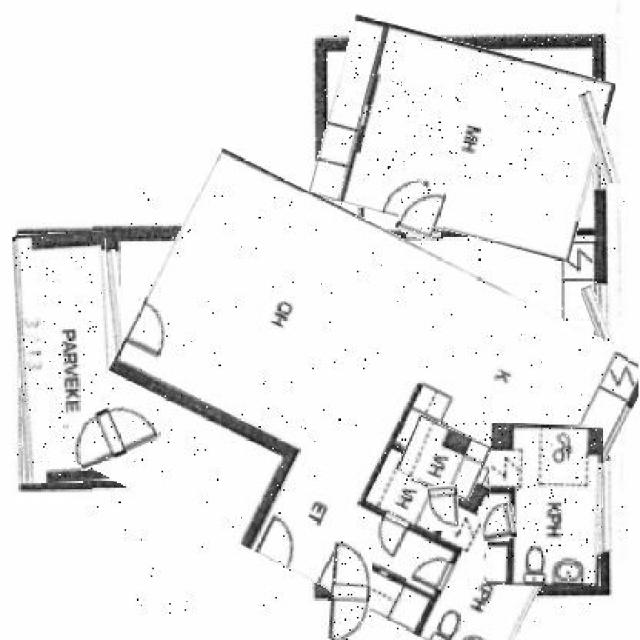door: (68, 402, 160, 464), (328, 538, 370, 640), (400, 186, 443, 240), (480, 503, 517, 542), (429, 486, 458, 531)
window: (102, 251, 126, 411), (586, 92, 614, 188), (588, 286, 615, 376), (596, 458, 612, 554)
zone: (92, 194, 628, 631), (319, 31, 606, 248), (15, 234, 114, 483), (488, 426, 603, 586), (400, 423, 488, 495)
